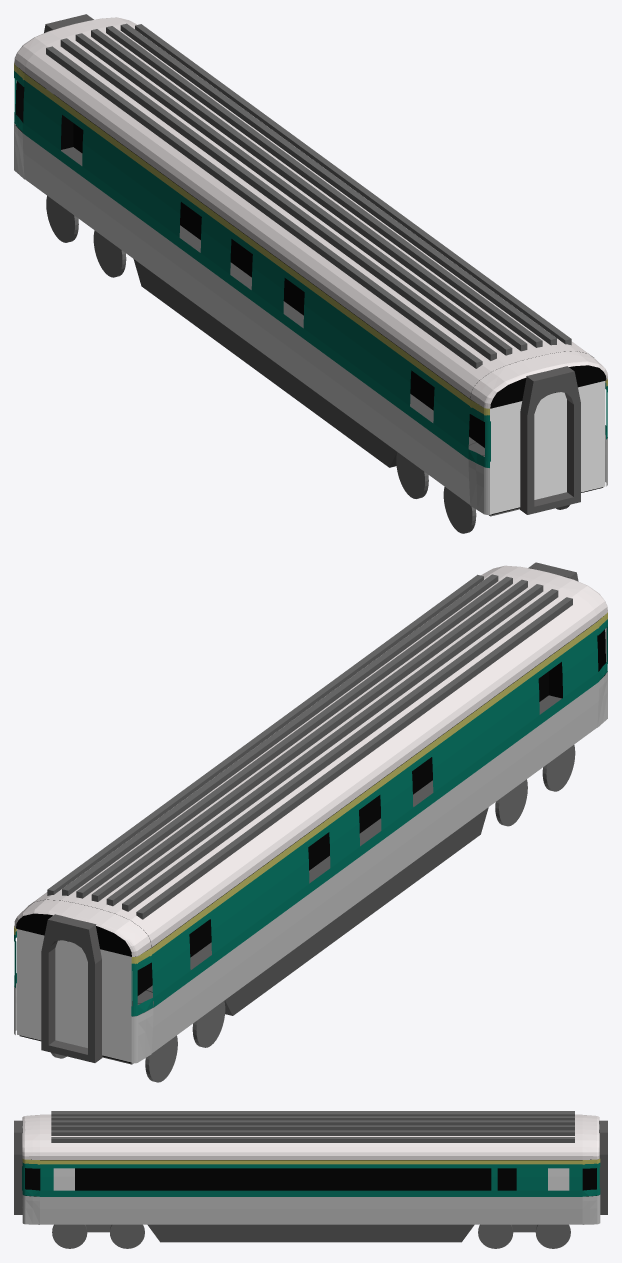
File: br-mk3-sle-gwt.dae
3 views of the same model, one above another, from view 1: azimuth 30°, elevation 25°; view 2: azimuth 150°, elevation 25°; view 3: azimuth 270°, elevation 25° (orthographic). The views are drawn at different scales.
Parts seen in each view (by area): view 1: Suzanne_001, Plane_007, Plane_001, Cube_010, Cube, Cube_011, Cube_008, Cube_009, Cube_004, Cube_002, Tube_003, Plane_044 (+19 smaller); view 2: Suzanne_001, Plane_007, Plane_100, Cube, Cube_010, Cube_011, Cube_008, Cube_009, Cube_004, Cube_002, Tube_002, Plane_044 (+19 smaller); view 3: Plane_134, Plane_041, Suzanne_001, Cube, Plane_039, Cube_002, Cube_003, Cube_004, Cube_008, Plane_135, Plane_136, Cube_009 (+20 smaller).
Boxes of the visible parts, bbox=[...] form: Suzanne_001: bbox=[24, 24, 593, 398]; Plane_007: bbox=[23, 140, 470, 504]; Plane_001: bbox=[490, 381, 605, 514]; Cube_010: bbox=[60, 38, 496, 360]; Cube: bbox=[133, 259, 396, 467]; Cube_011: bbox=[46, 46, 482, 368]; Cube_008: bbox=[91, 29, 527, 351]; Cube_009: bbox=[75, 33, 512, 355]; Cube_004: bbox=[106, 26, 542, 347]; Cube_002: bbox=[120, 23, 556, 345]; Tube_003: bbox=[520, 366, 580, 514]; Plane_044: bbox=[22, 123, 468, 459]; Suzanne_001: bbox=[28, 573, 596, 947]; Plane_007: bbox=[151, 688, 598, 1053]; Plane_100: bbox=[17, 929, 132, 1062]; Cube: bbox=[224, 807, 488, 1015]; Cube_010: bbox=[122, 589, 558, 911]; Cube_011: bbox=[136, 597, 572, 919]; Cube_008: bbox=[91, 579, 527, 901]; Cube_009: bbox=[106, 584, 543, 906]; Cube_004: bbox=[76, 576, 512, 898]; Cube_002: bbox=[62, 574, 498, 895]; Tube_002: bbox=[41, 914, 102, 1062]; Plane_044: bbox=[153, 671, 599, 1007]; Plane_134: bbox=[40, 1201, 582, 1224]; Plane_041: bbox=[25, 1159, 596, 1196]; Suzanne_001: bbox=[40, 1114, 582, 1159]; Cube: bbox=[147, 1224, 474, 1242]; Plane_039: bbox=[39, 1190, 582, 1196]; Cube_002: bbox=[51, 1130, 574, 1135]; Cube_003: bbox=[51, 1137, 574, 1142]; Cube_004: bbox=[51, 1125, 574, 1130]; Cube_008: bbox=[51, 1120, 574, 1125]; Plane_135: bbox=[40, 1160, 582, 1164]; Plane_136: bbox=[40, 1164, 582, 1168]; Cube_009: bbox=[51, 1116, 574, 1120].
Size of the model in its own units: 2.07 by 13.39 by 2.81.
